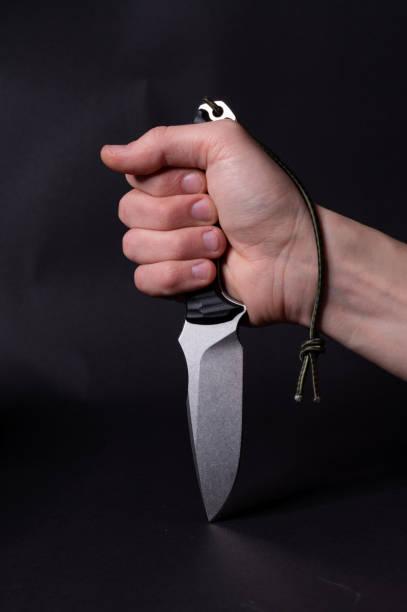knife: (180, 99, 246, 522)
